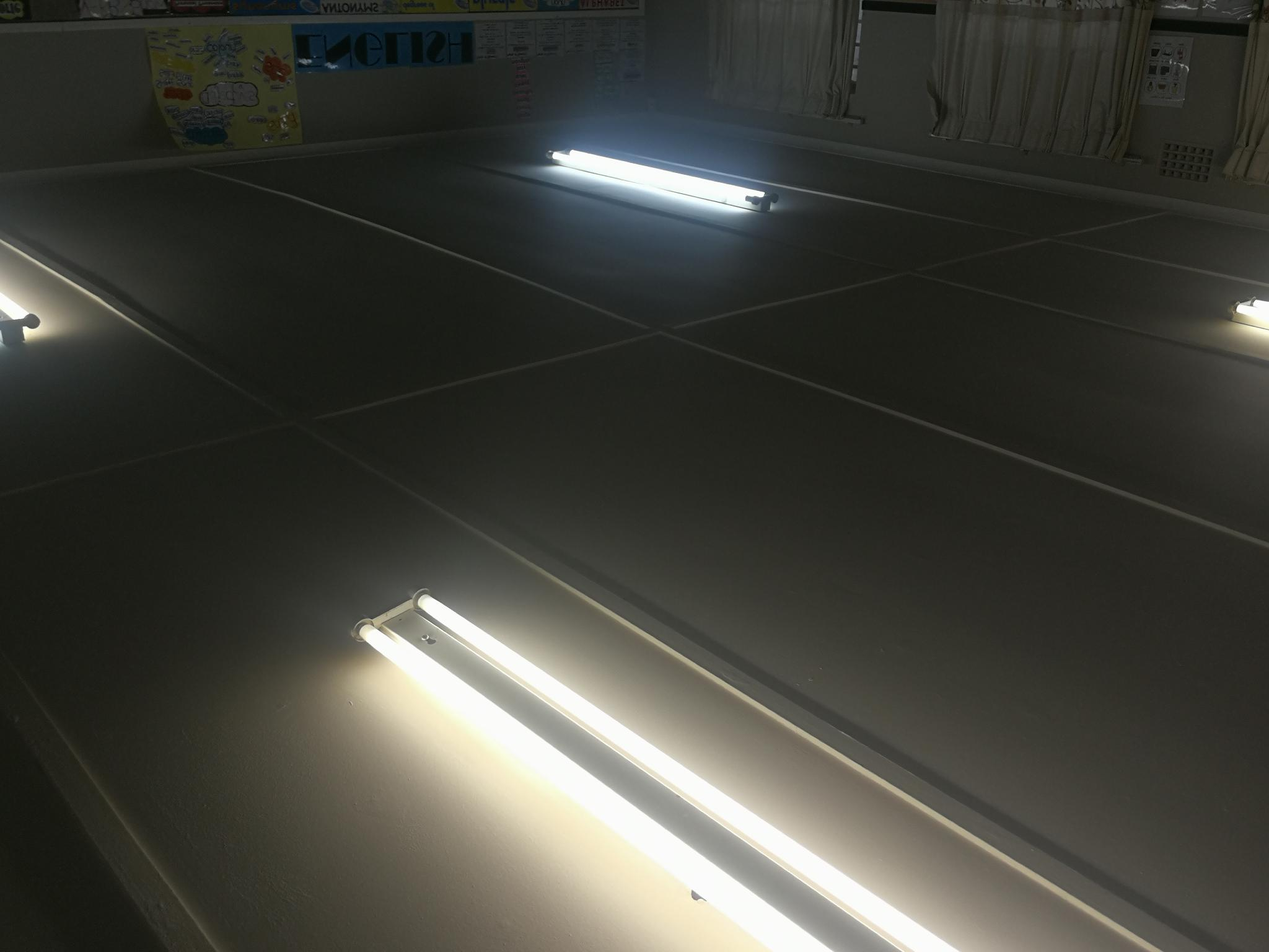light: (345, 586, 976, 952), (547, 146, 779, 213)
